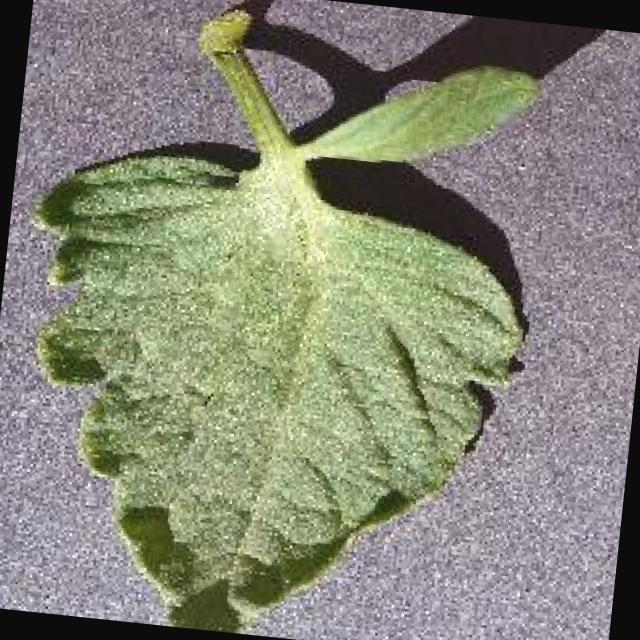healthy: (29, 18, 542, 632)
